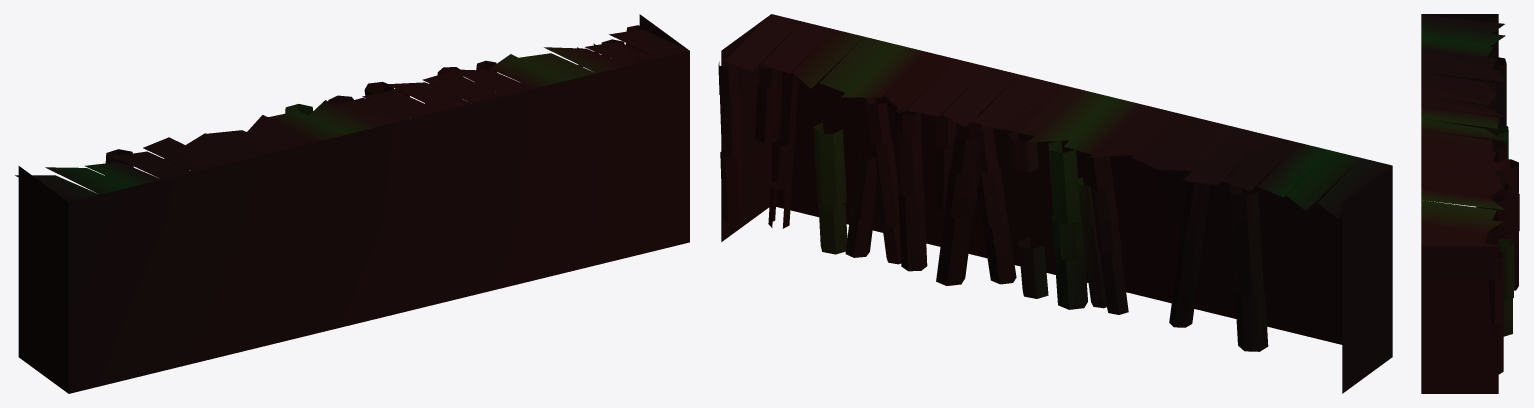
File: tf_basalt_flowband_20m_lod1.glb
3 views of the same model, side by side, from view 1: azimuth 30°, elevation 25°; view 2: azimuth 150°, elevation 25°; view 3: azimuth 270°, elevation 25° (orthographic). The views are drawn at different scales.
Visible parts, largest first — view 1: tf_basalt_flowband_20m_lod1; view 2: tf_basalt_flowband_20m_lod1; view 3: tf_basalt_flowband_20m_lod1.
Boxes of the visible parts, x1,y1,x2,y2 form: tf_basalt_flowband_20m_lod1: [15, 14, 689, 393]; tf_basalt_flowband_20m_lod1: [718, 14, 1392, 393]; tf_basalt_flowband_20m_lod1: [1421, 14, 1519, 393].
Bounding box in the file's own units: 20.16 × 5.9 × 3.56.
